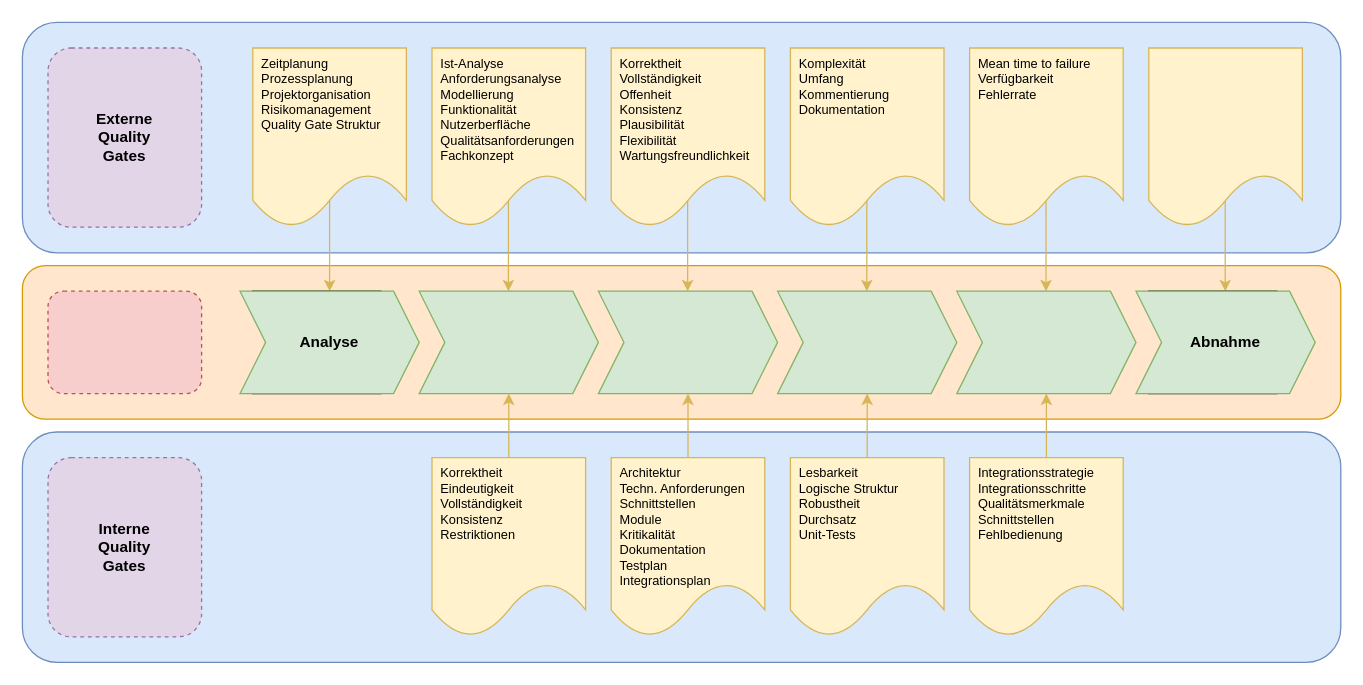
This 1363x685 diagram has some shape labels left out. The shapes that lost their labels are listed below. From the top down, each one's centre as x and y in pixels, then its label:
At point (1225, 137): "Maßnahmenplan Installationsanleitung Betriebshandbuch Abnahmetest".
At point (124, 342): "Entwicklungs- prozess".
At point (508, 342): "Spezifikation".
At point (687, 342): "Entwurf".
At point (866, 342): "Codierung".
At point (1046, 342): "Integration".
